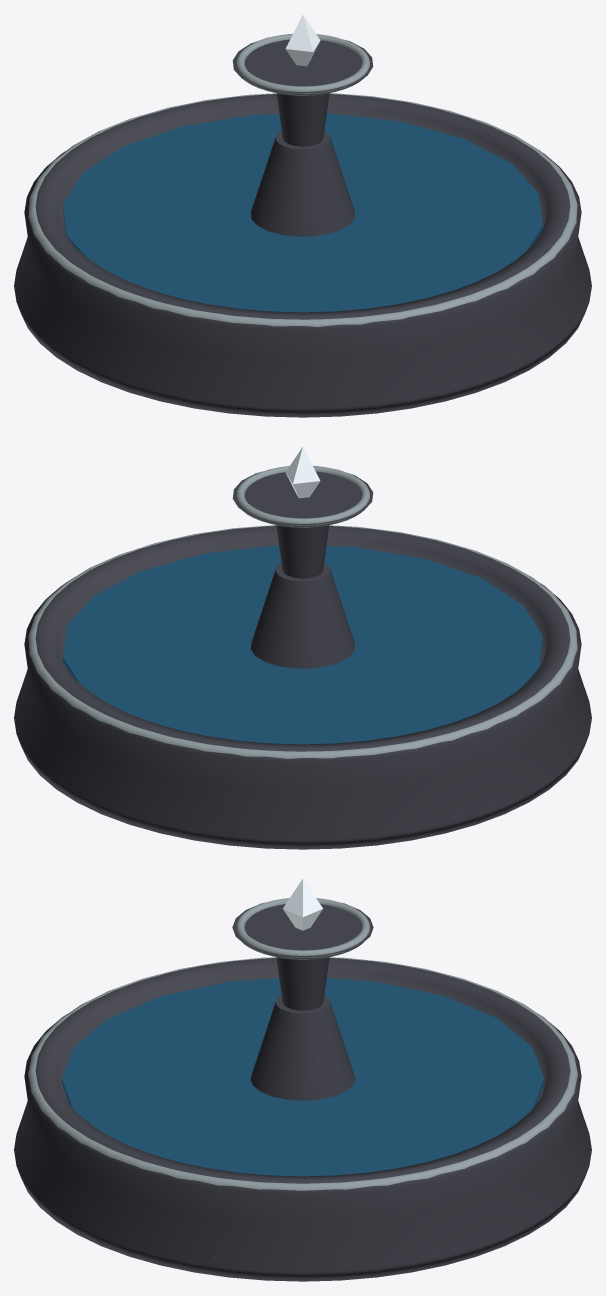
The model's file is mia-fountain.glb.
3 views of the same model, one above another, from view 1: azimuth 30°, elevation 25°; view 2: azimuth 150°, elevation 25°; view 3: azimuth 270°, elevation 25° (orthographic).
Parts seen in each view (by area): view 1: Body_stone, Body_pond-water, Body_steel, Body_porcelain; view 2: Body_stone, Body_pond-water, Body_steel, Body_porcelain; view 3: Body_stone, Body_pond-water, Body_steel, Body_porcelain.
Part boxes in pixels (x1,y1,x2,y2): Body_stone: [14, 37, 591, 417]; Body_pond-water: [63, 113, 542, 312]; Body_steel: [28, 33, 577, 326]; Body_porcelain: [285, 15, 320, 66]; Body_stone: [14, 469, 591, 849]; Body_pond-water: [63, 545, 542, 744]; Body_steel: [28, 465, 577, 758]; Body_porcelain: [285, 447, 320, 498]; Body_stone: [14, 903, 591, 1281]; Body_pond-water: [61, 978, 544, 1176]; Body_steel: [28, 898, 577, 1190]; Body_porcelain: [283, 879, 322, 930].
Bounding box in the file's own units: 2.78 × 1.5 × 2.78.
